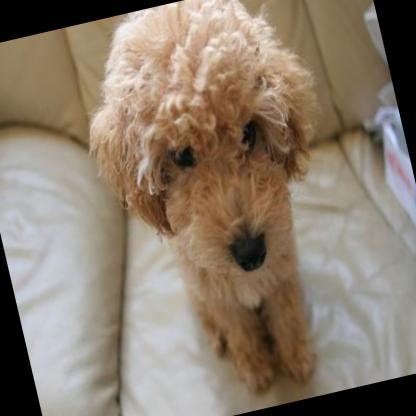toy_poodle: (58, 0, 379, 416)
